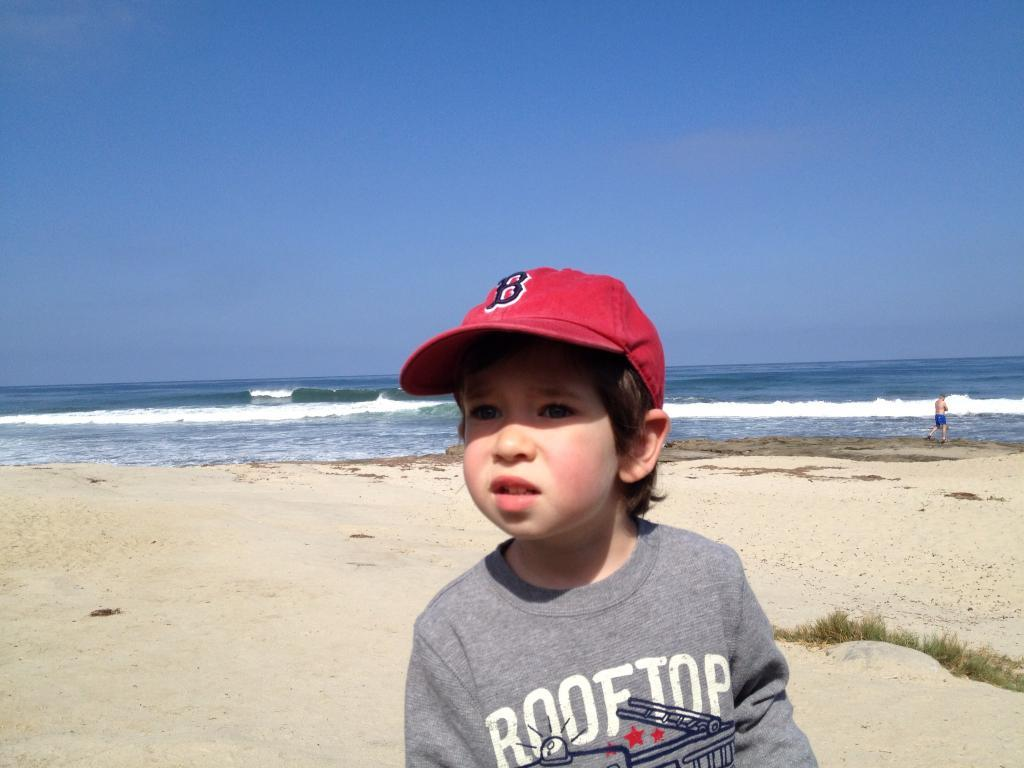Hat: (398, 265, 664, 408)
